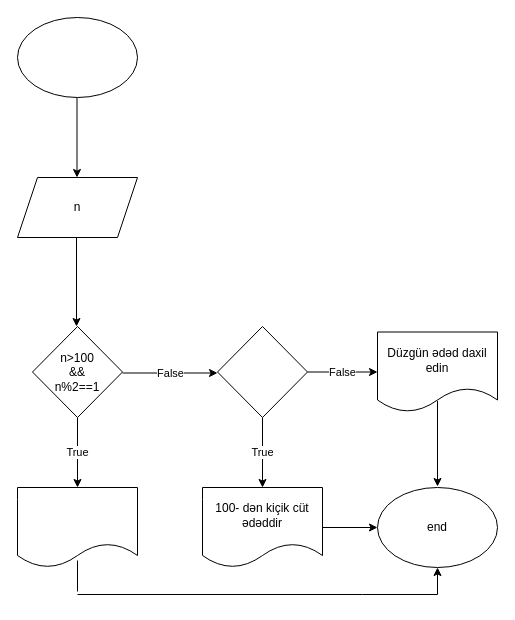
This 515x620 diagram has some shape labels left out. The centre of each missing label's shape, as x and y in pixels:
"100-dən böyük tək ədəddir" goes at point (77, 527).
"n<100 && n%2==0" goes at point (262, 372).
"Start" goes at point (77, 57).
